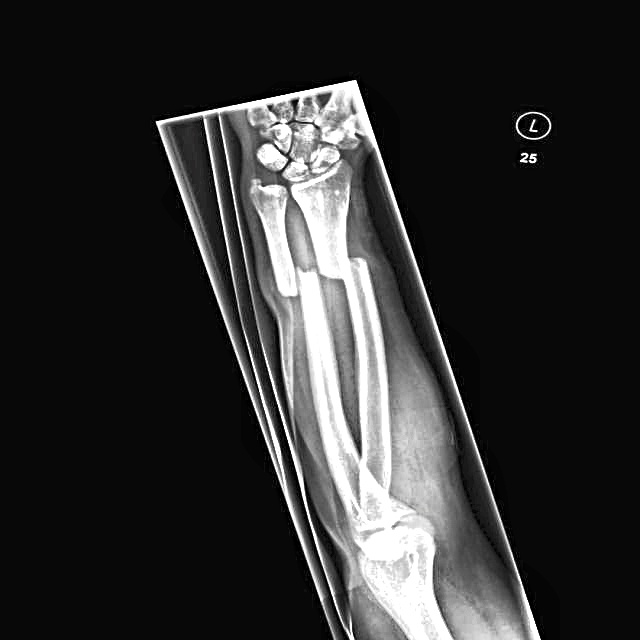Transverse: (273, 256, 323, 306), (319, 249, 377, 289)
